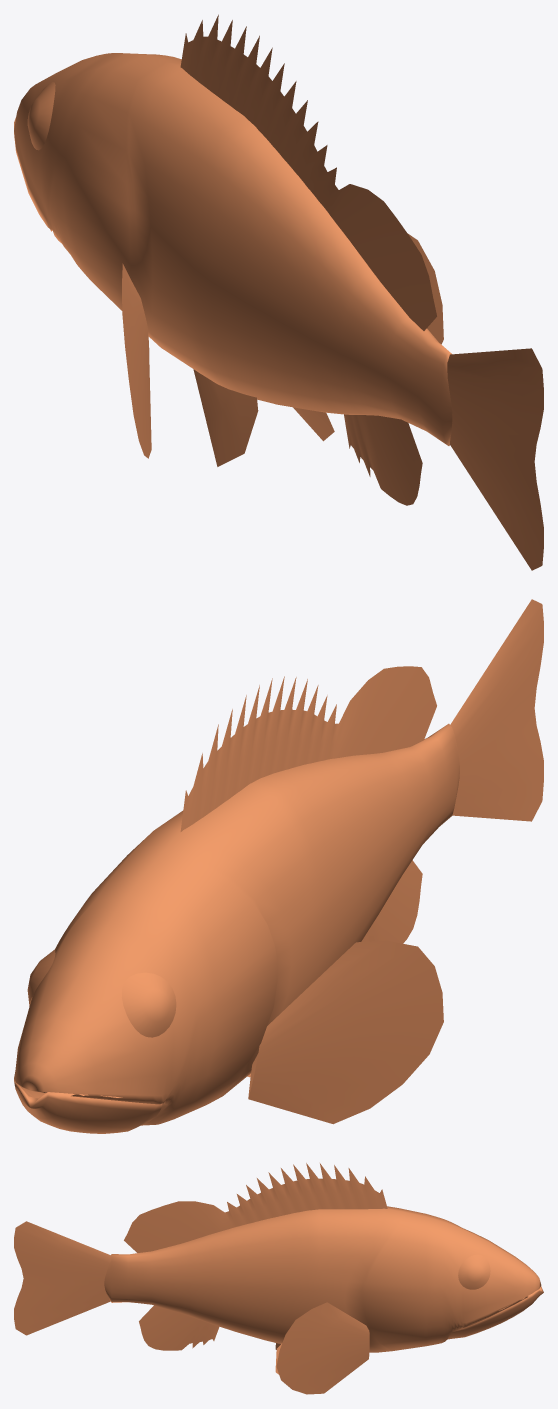
Rendered from rockfish_game.glb.
The picture shows the model from 3 angles, top to bottom: view 1: azimuth 30°, elevation 25°; view 2: azimuth 150°, elevation 25°; view 3: azimuth 270°, elevation 25°; orthographic projection. The views are drawn at different scales.
Parts seen in each view (by area): view 1: rockfish_game; view 2: rockfish_game; view 3: rockfish_game.
Boxes of the visible parts, x1=… form: rockfish_game: x1=14, y1=14, x2=543, y2=570; rockfish_game: x1=14, y1=599, x2=543, y2=1133; rockfish_game: x1=14, y1=1163, x2=543, y2=1394.
Bounding box in the file's own units: 0.1776 × 0.2228 × 0.5056.
